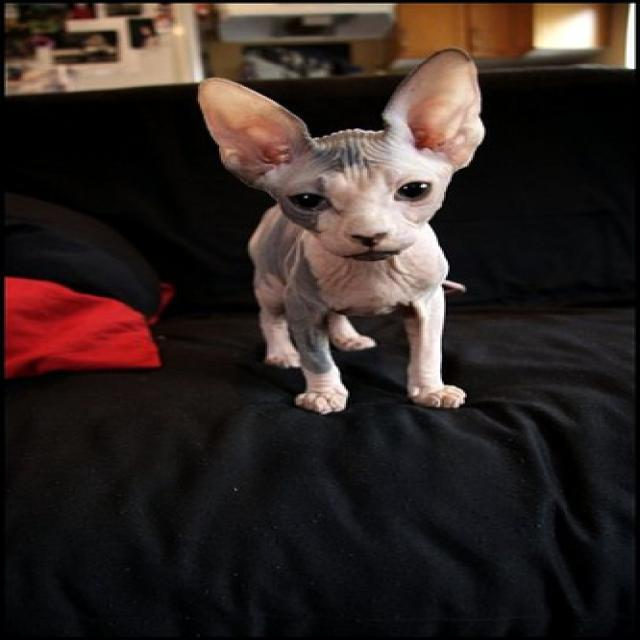Sphynx: (194, 46, 483, 260)
